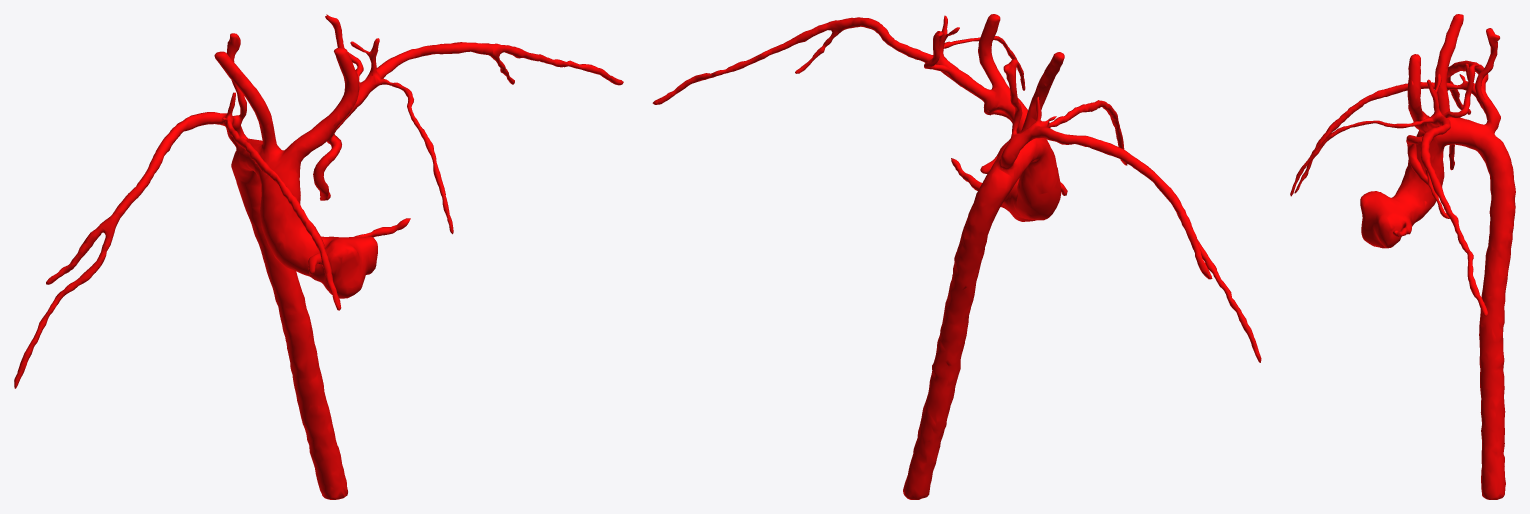
3 views of the same model, side by side, from view 1: azimuth 30°, elevation 25°; view 2: azimuth 150°, elevation 25°; view 3: azimuth 270°, elevation 25° (orthographic). The views are drawn at different scales.
Visible parts, largest first — view 1: Polygonal_Model_9_Triangles_0; view 2: Polygonal_Model_9_Triangles_0; view 3: Polygonal_Model_9_Triangles_0.
Boxes of the visible parts, x1,y1,x2,y2 form: Polygonal_Model_9_Triangles_0: (14,14,623,499); Polygonal_Model_9_Triangles_0: (652,14,1261,499); Polygonal_Model_9_Triangles_0: (1290,14,1515,499).
Bounding box in the file's own units: 5.31 × 3.96 × 1.9.
